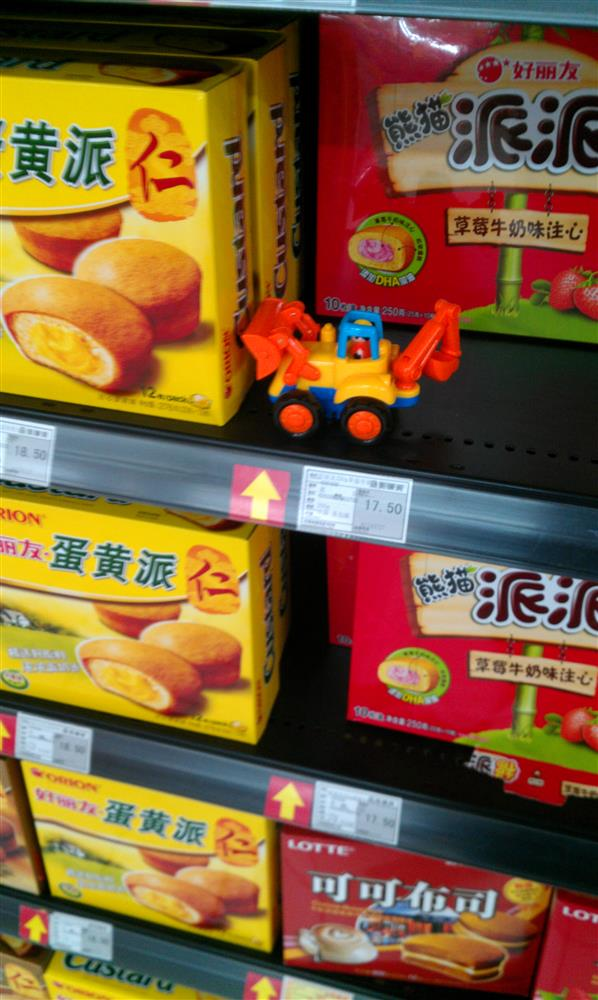navvy: (237, 282, 474, 444)
